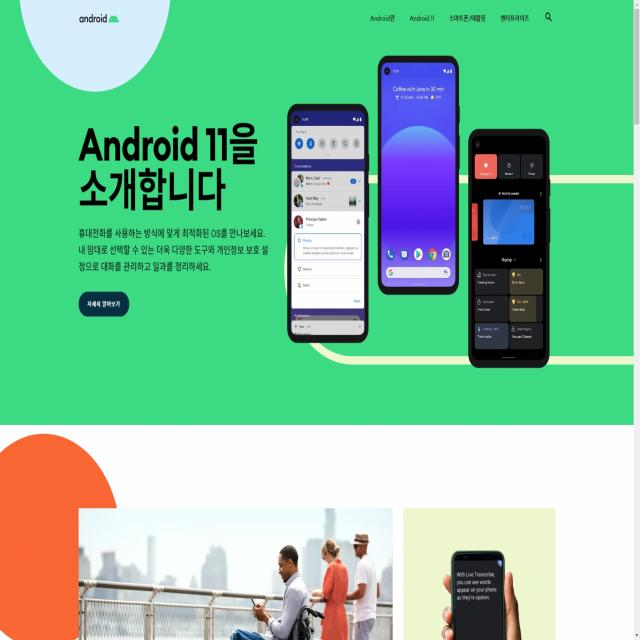menu-bar: (365, 4, 555, 27)
